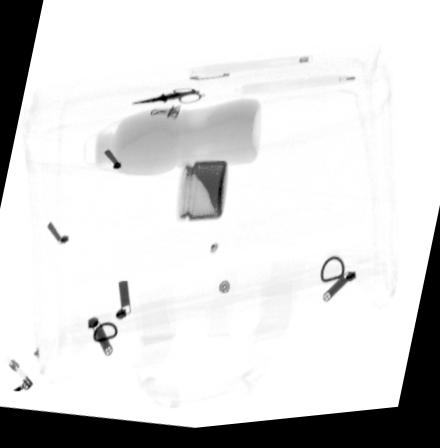Scissors: (130, 80, 199, 108)
